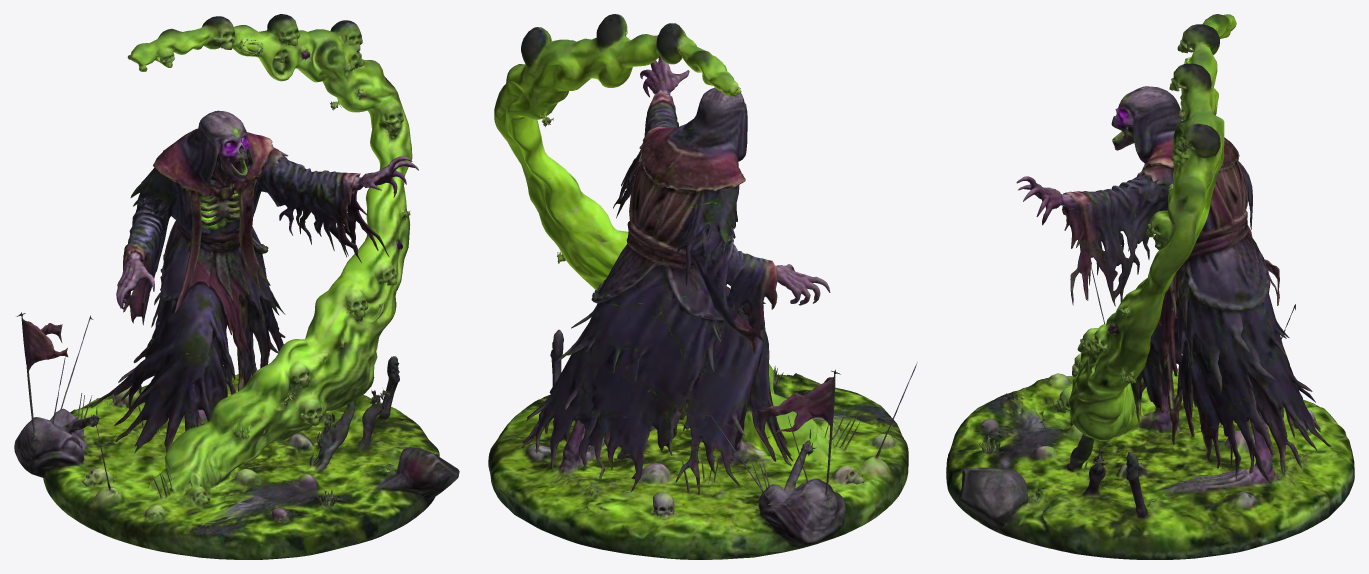
Rendered from mini_gm14.glb.
3 renders of one model, left to right at view 1: azimuth 30°, elevation 25°; view 2: azimuth 150°, elevation 25°; view 3: azimuth 270°, elevation 25°, orthographic. The views are drawn at different scales.
Bounding box in the file's own units: 1.61 × 1.9 × 1.55.
Materials: 1 (1 with a texture image).
